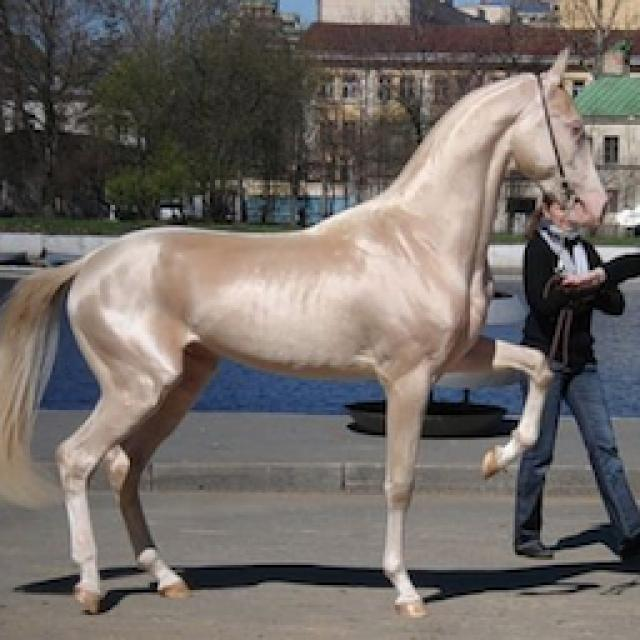Horse: (0, 42, 618, 620)
